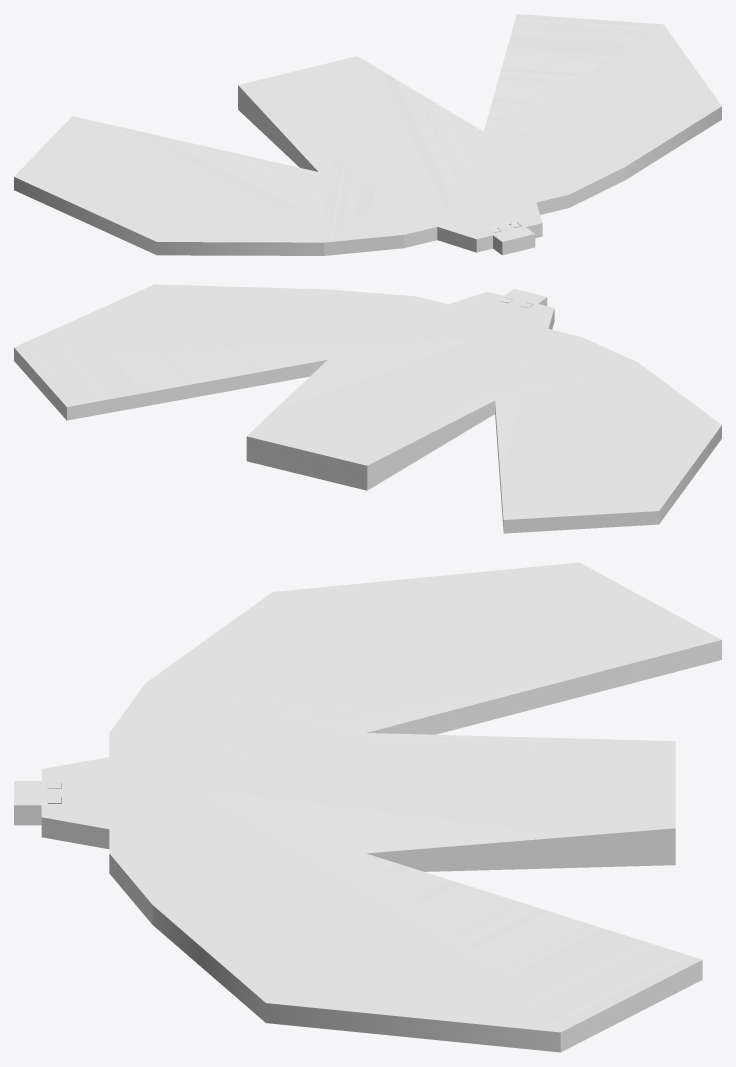
The model's file is MAP_fixnorm.fbx.
3 renders of one model, top to bottom at view 1: azimuth 30°, elevation 25°; view 2: azimuth 150°, elevation 25°; view 3: azimuth 270°, elevation 25°, orthographic. The views are drawn at different scales.
Visible parts, largest first — view 1: scaletesting:polySurface1, polySurface1; view 2: scaletesting:polySurface1, polySurface1; view 3: scaletesting:polySurface1, polySurface1.
Boxes of the visible parts, x1,y1,x2,y2 form: scaletesting:polySurface1: (14, 14, 721, 255); polySurface1: (14, 15, 721, 255); scaletesting:polySurface1: (14, 284, 721, 533); polySurface1: (14, 284, 721, 532); scaletesting:polySurface1: (14, 562, 721, 1052); polySurface1: (14, 563, 720, 1051).
Size of the model in its own units: 128 by 4.67 by 81.3.
Materials: 3 (3 with a texture image).
